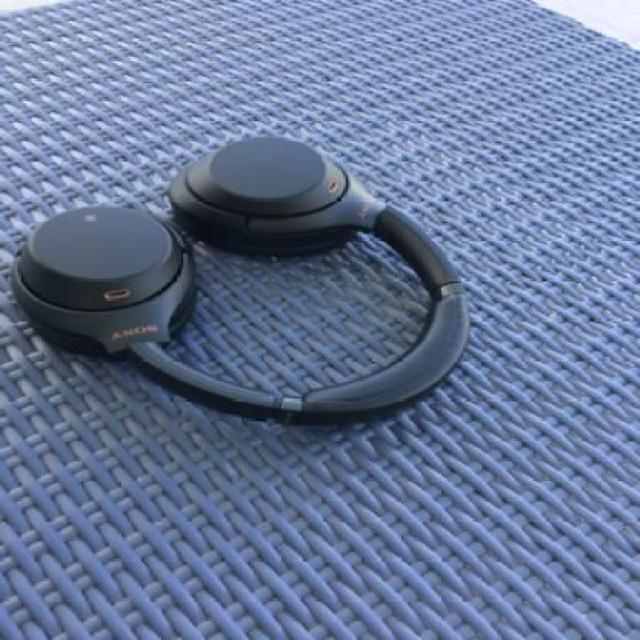earphone: (14, 100, 478, 443)
